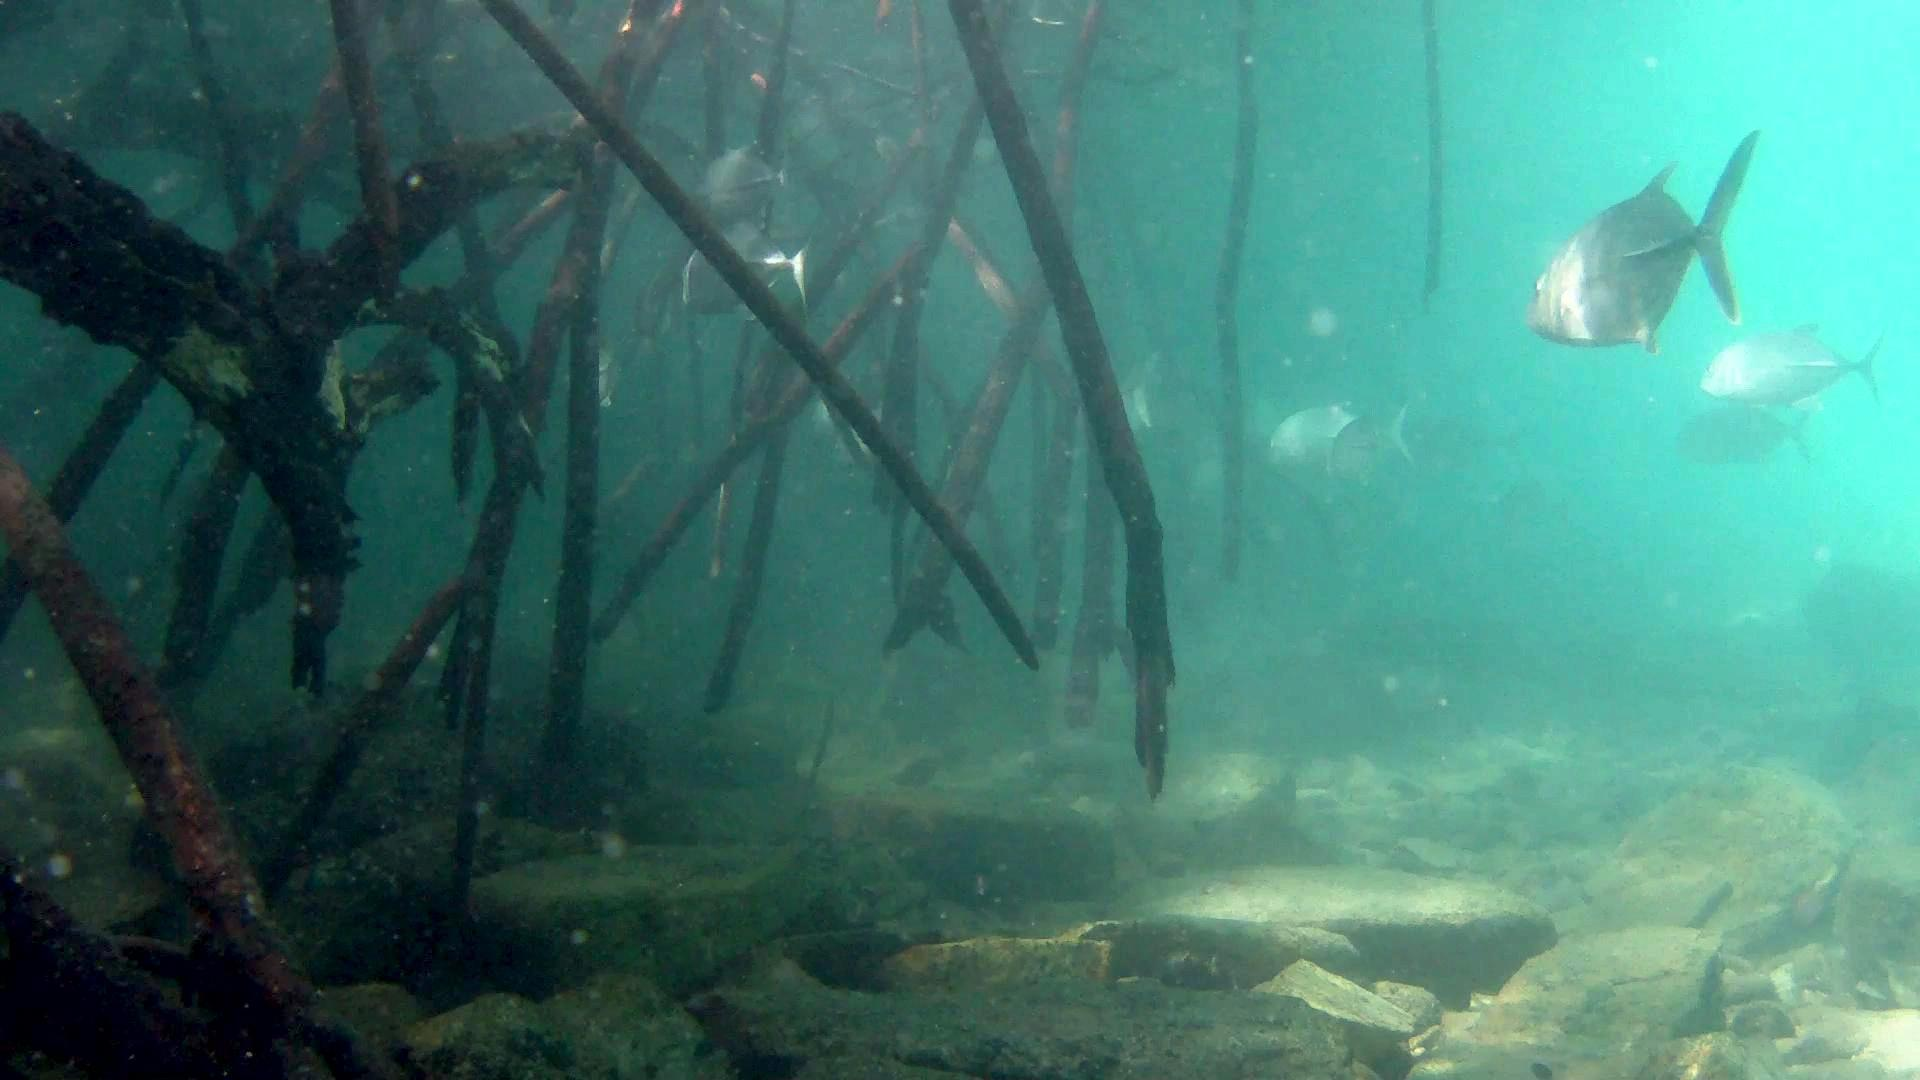caranx: (1517, 120, 1771, 364)
